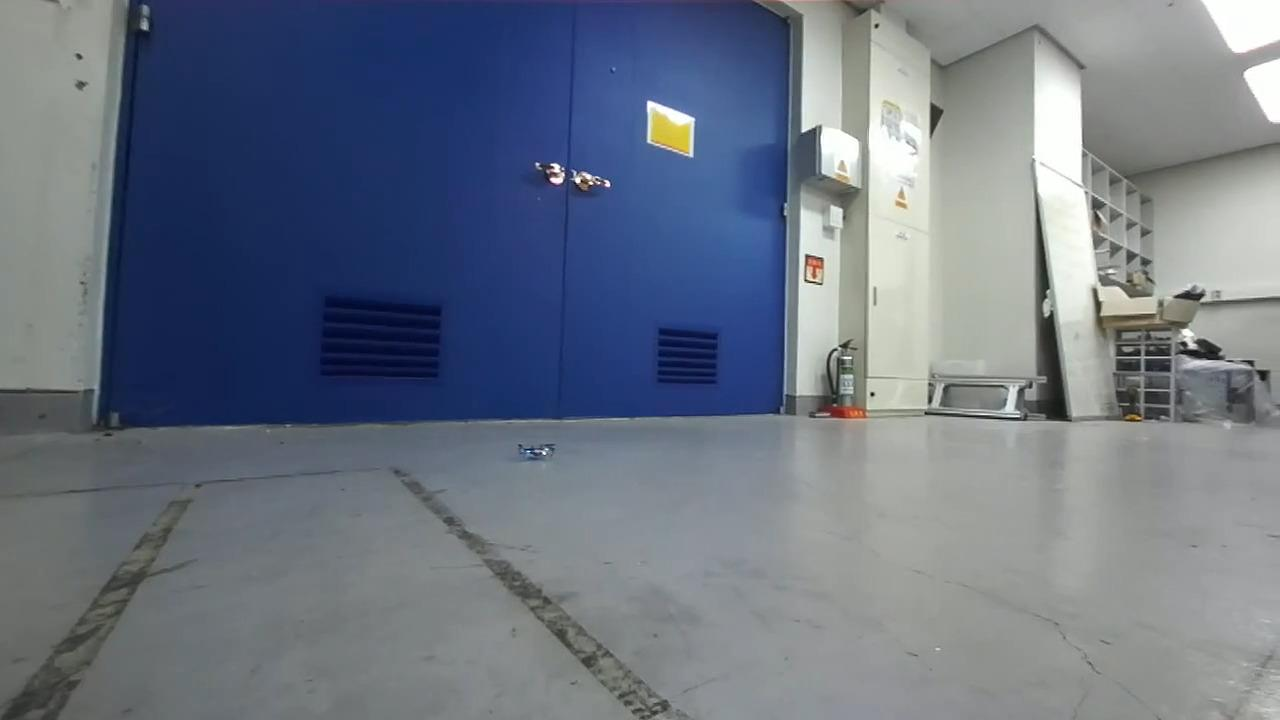crazyflie: (513, 435, 563, 465)
